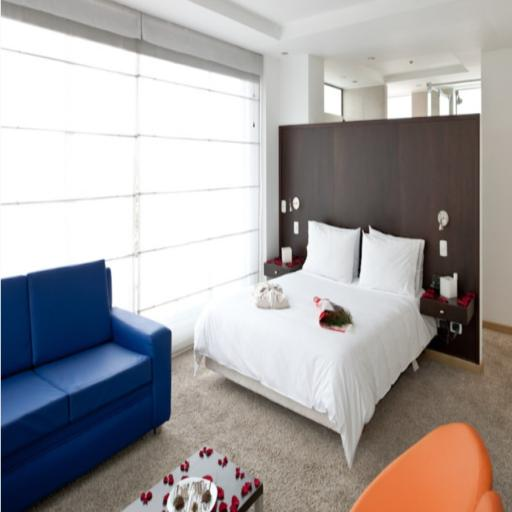person: (194, 271, 435, 466)
sidewalk: (2, 261, 171, 511)
stroller: (125, 448, 263, 511)
